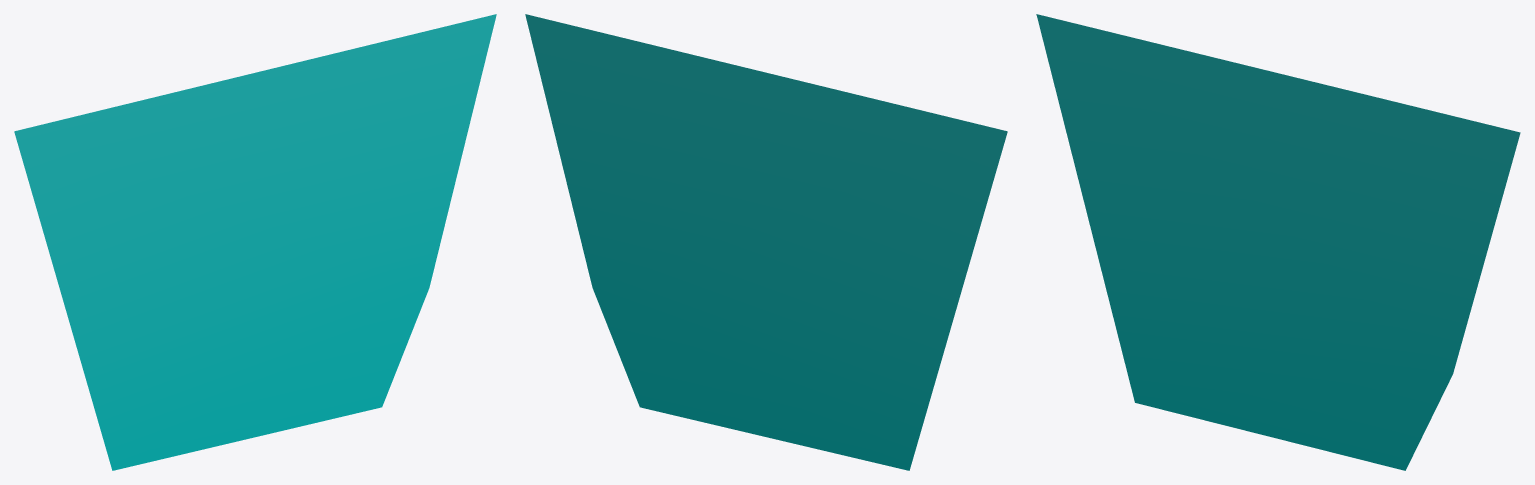
File: uddmcgbia_VarK_LOD3.fbx
The picture shows the model from 3 angles, left to right: view 1: azimuth 30°, elevation 25°; view 2: azimuth 150°, elevation 25°; view 3: azimuth 330°, elevation 25°; orthographic projection.
Visible parts, largest first — view 1: _adc6_VarK_LOD4; view 2: _adc6_VarK_LOD4; view 3: _adc6_VarK_LOD4.
Part boxes in pixels (x1,y1,x2,y2): _adc6_VarK_LOD4: (14, 14, 496, 470); _adc6_VarK_LOD4: (525, 14, 1007, 470); _adc6_VarK_LOD4: (1036, 14, 1520, 470).
Size of the model in its own units: 22.82 by 16.52 by 0.
